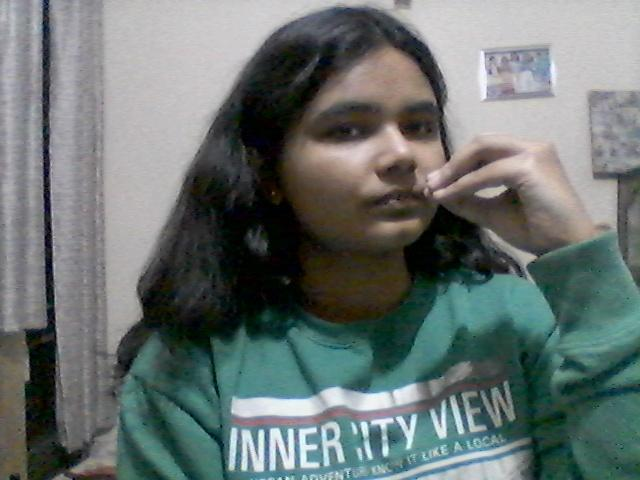eat: (410, 135, 624, 285)
